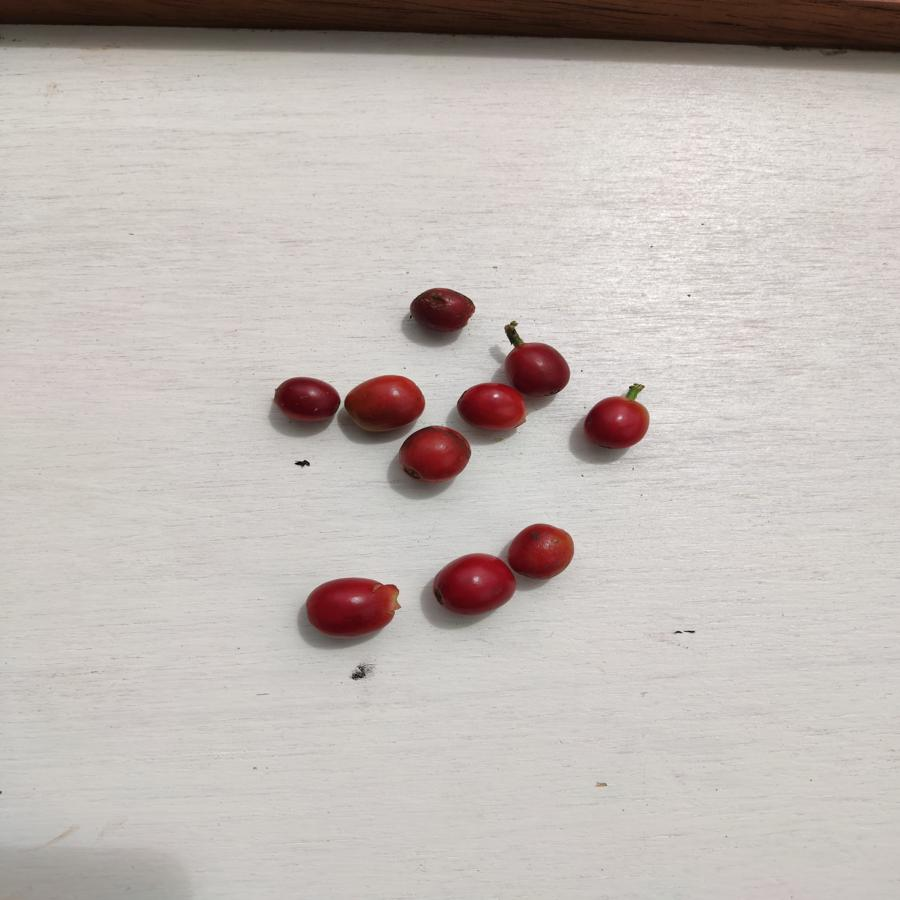Maduro: (304, 576, 399, 642), (432, 552, 516, 615), (344, 374, 425, 433), (397, 423, 472, 481), (507, 522, 576, 580), (583, 395, 651, 448), (505, 343, 571, 396), (455, 383, 527, 431), (271, 376, 341, 424)
Sobremaduro: (408, 288, 479, 332)
